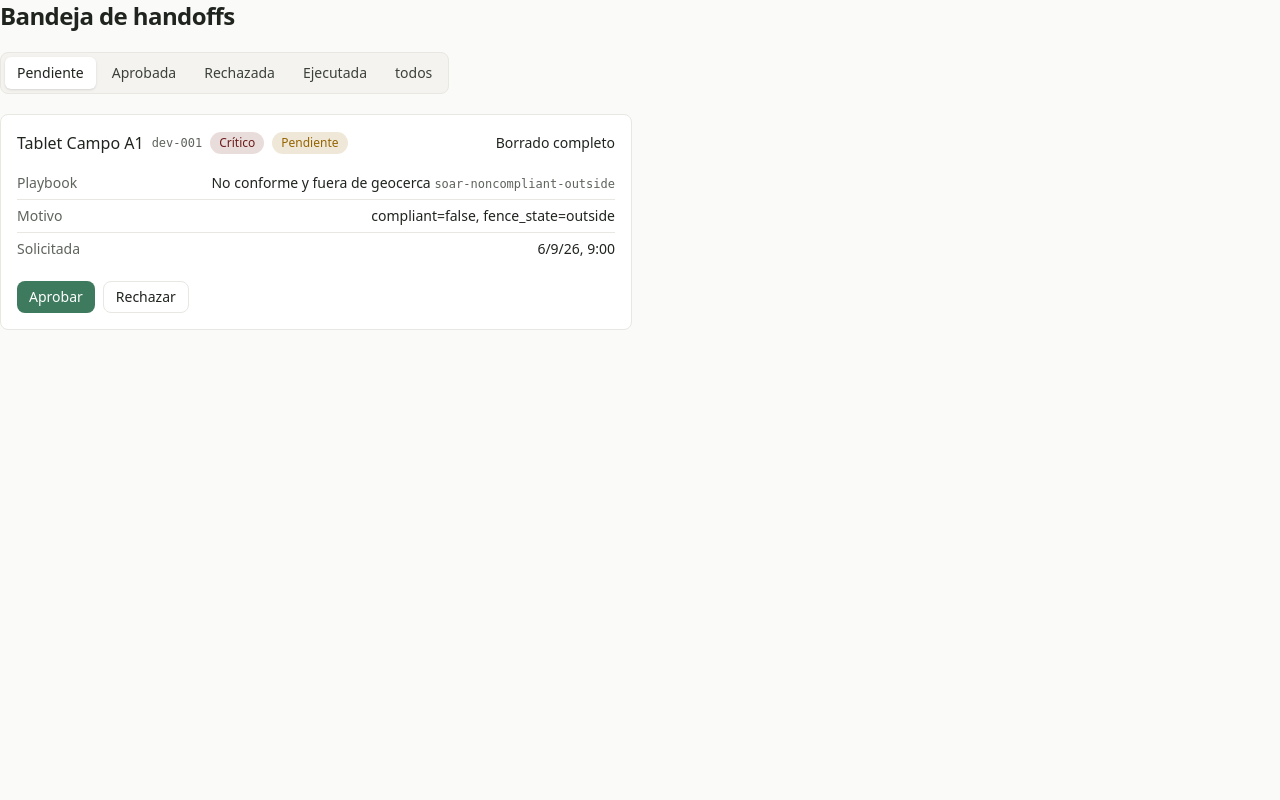
Scenario: un bloqueo del guardarraíl muestra su motivo, no un éxito
Click the button "Aprobar" at (56, 297), box [17,281,95,313]
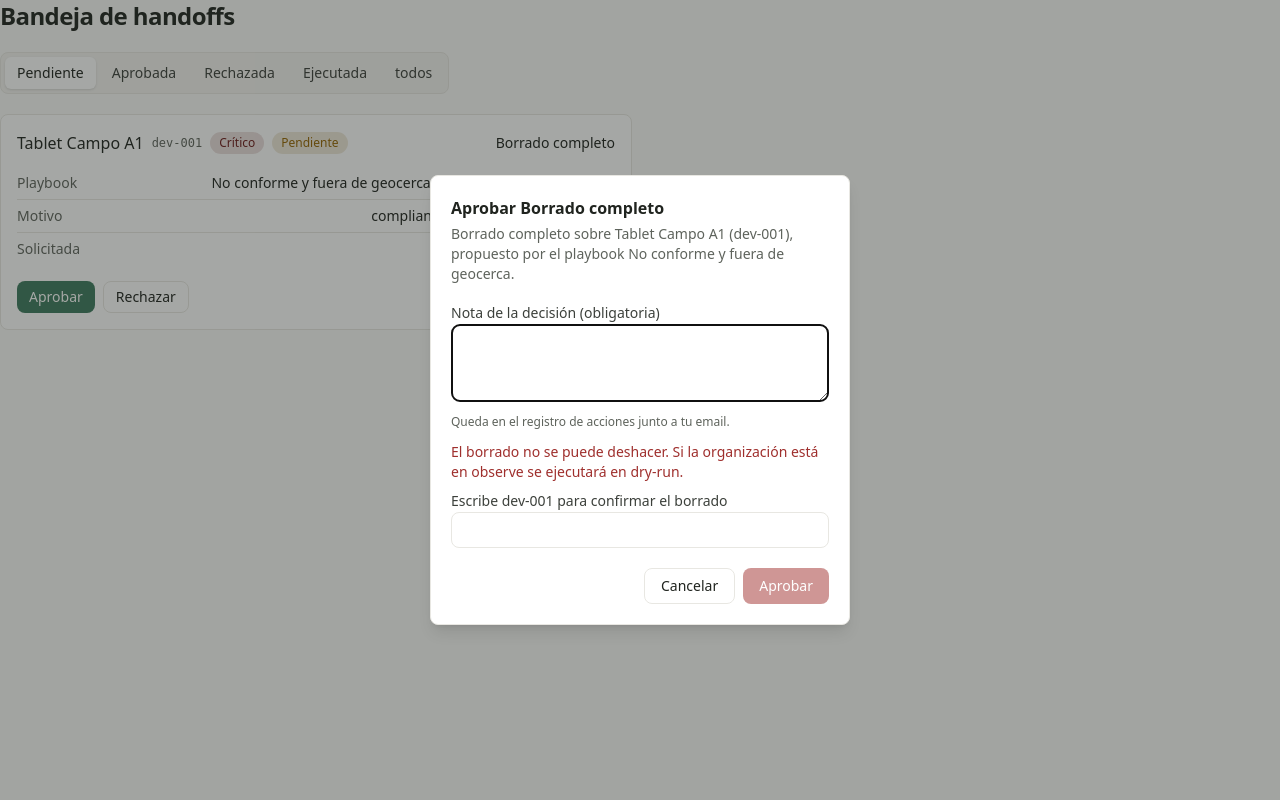
Type "aprobado por dirección" into the text box labelled "Nota de la decisión (obligatoria)" at (640, 363), box [451,324,829,402]
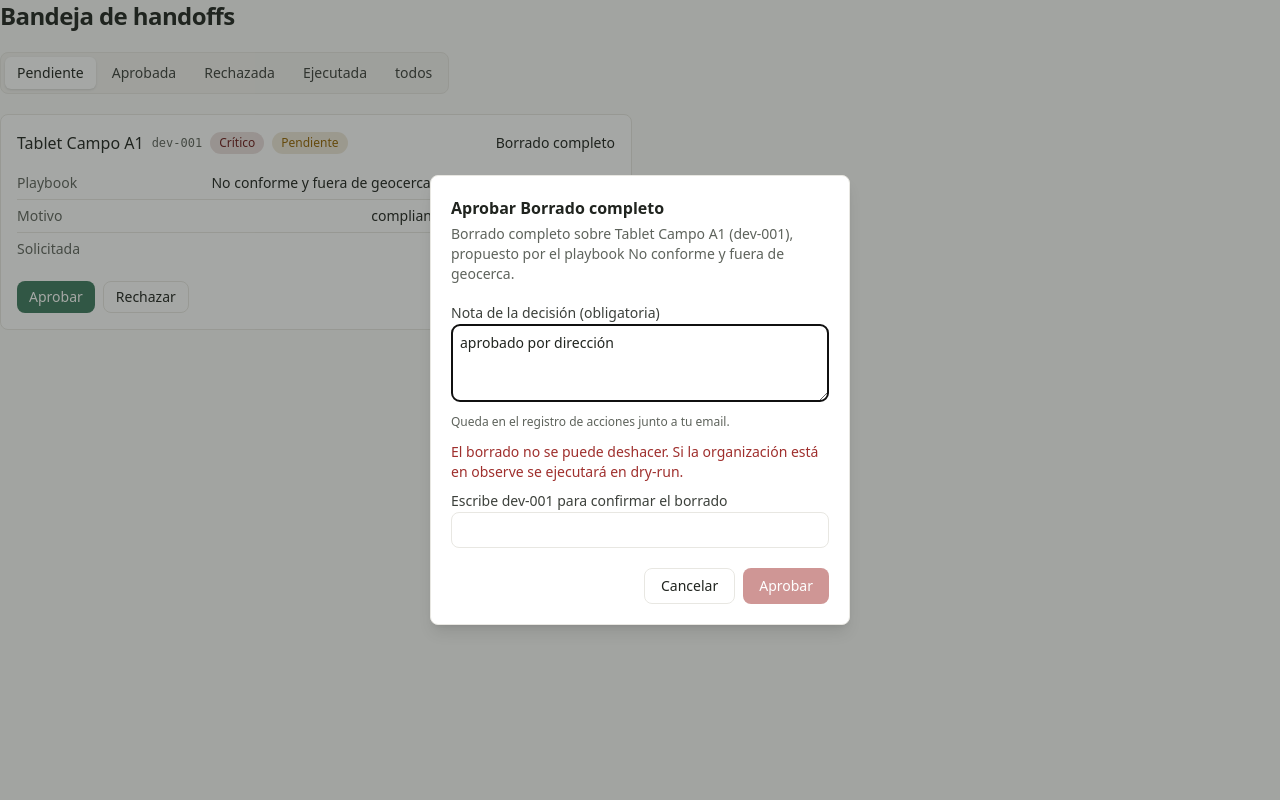
Type "dev-001" into the field labelled "Escribe dev-001 para confirmar el borrado" at (640, 530), box [451,512,829,548]
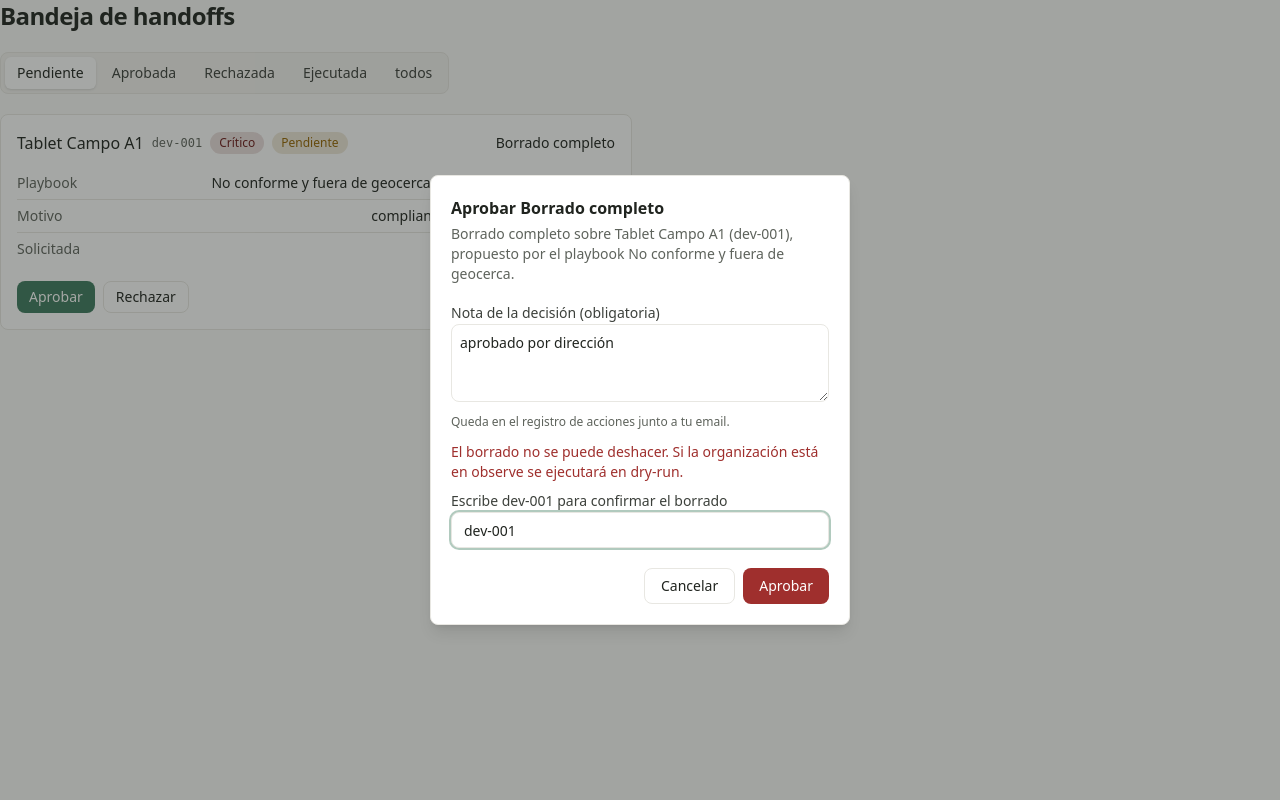
Click the button "Aprobar" at (786, 586), box [743,568,829,604]
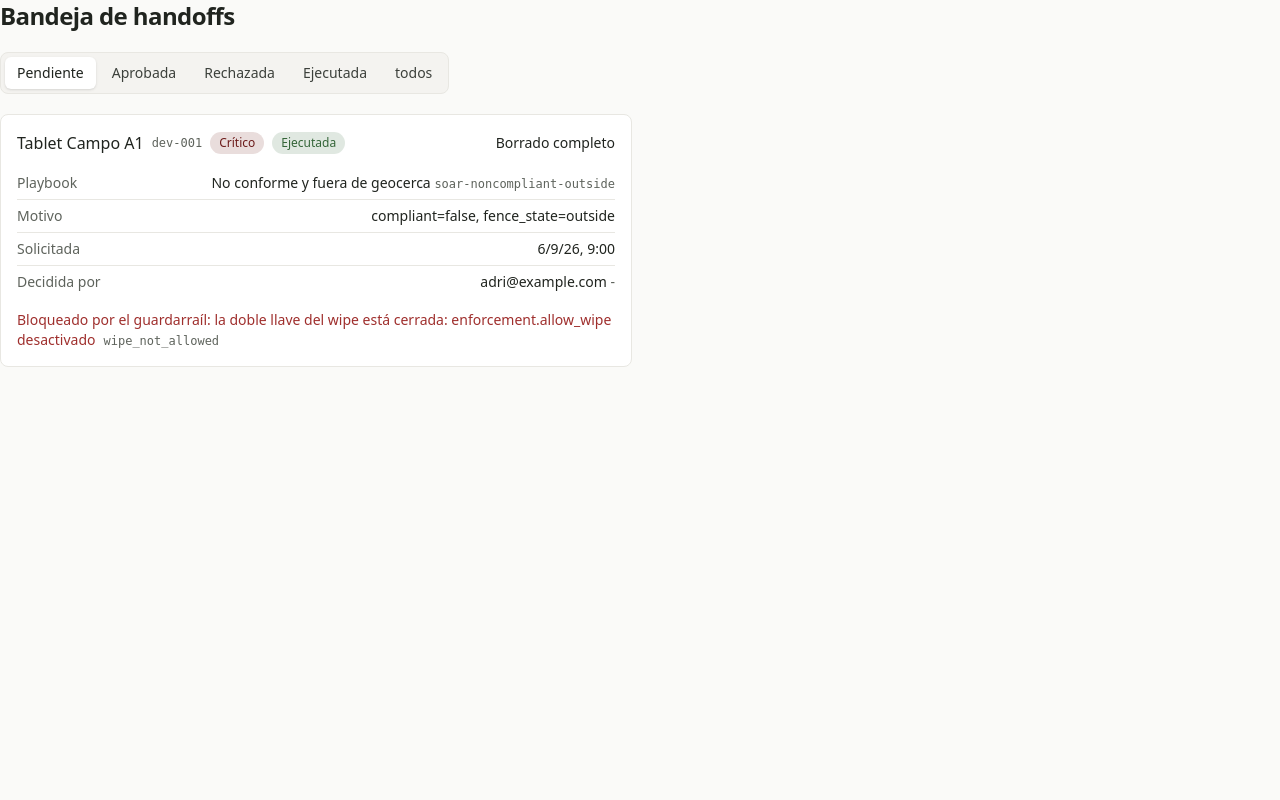
Expected: the text "Bloqueado por el guardarraíl: la doble llave del wipe está cerrada" is shown, [17,310,611,349]
Expected: the text "wipe_not_allowed" is shown, [104,334,219,348]
